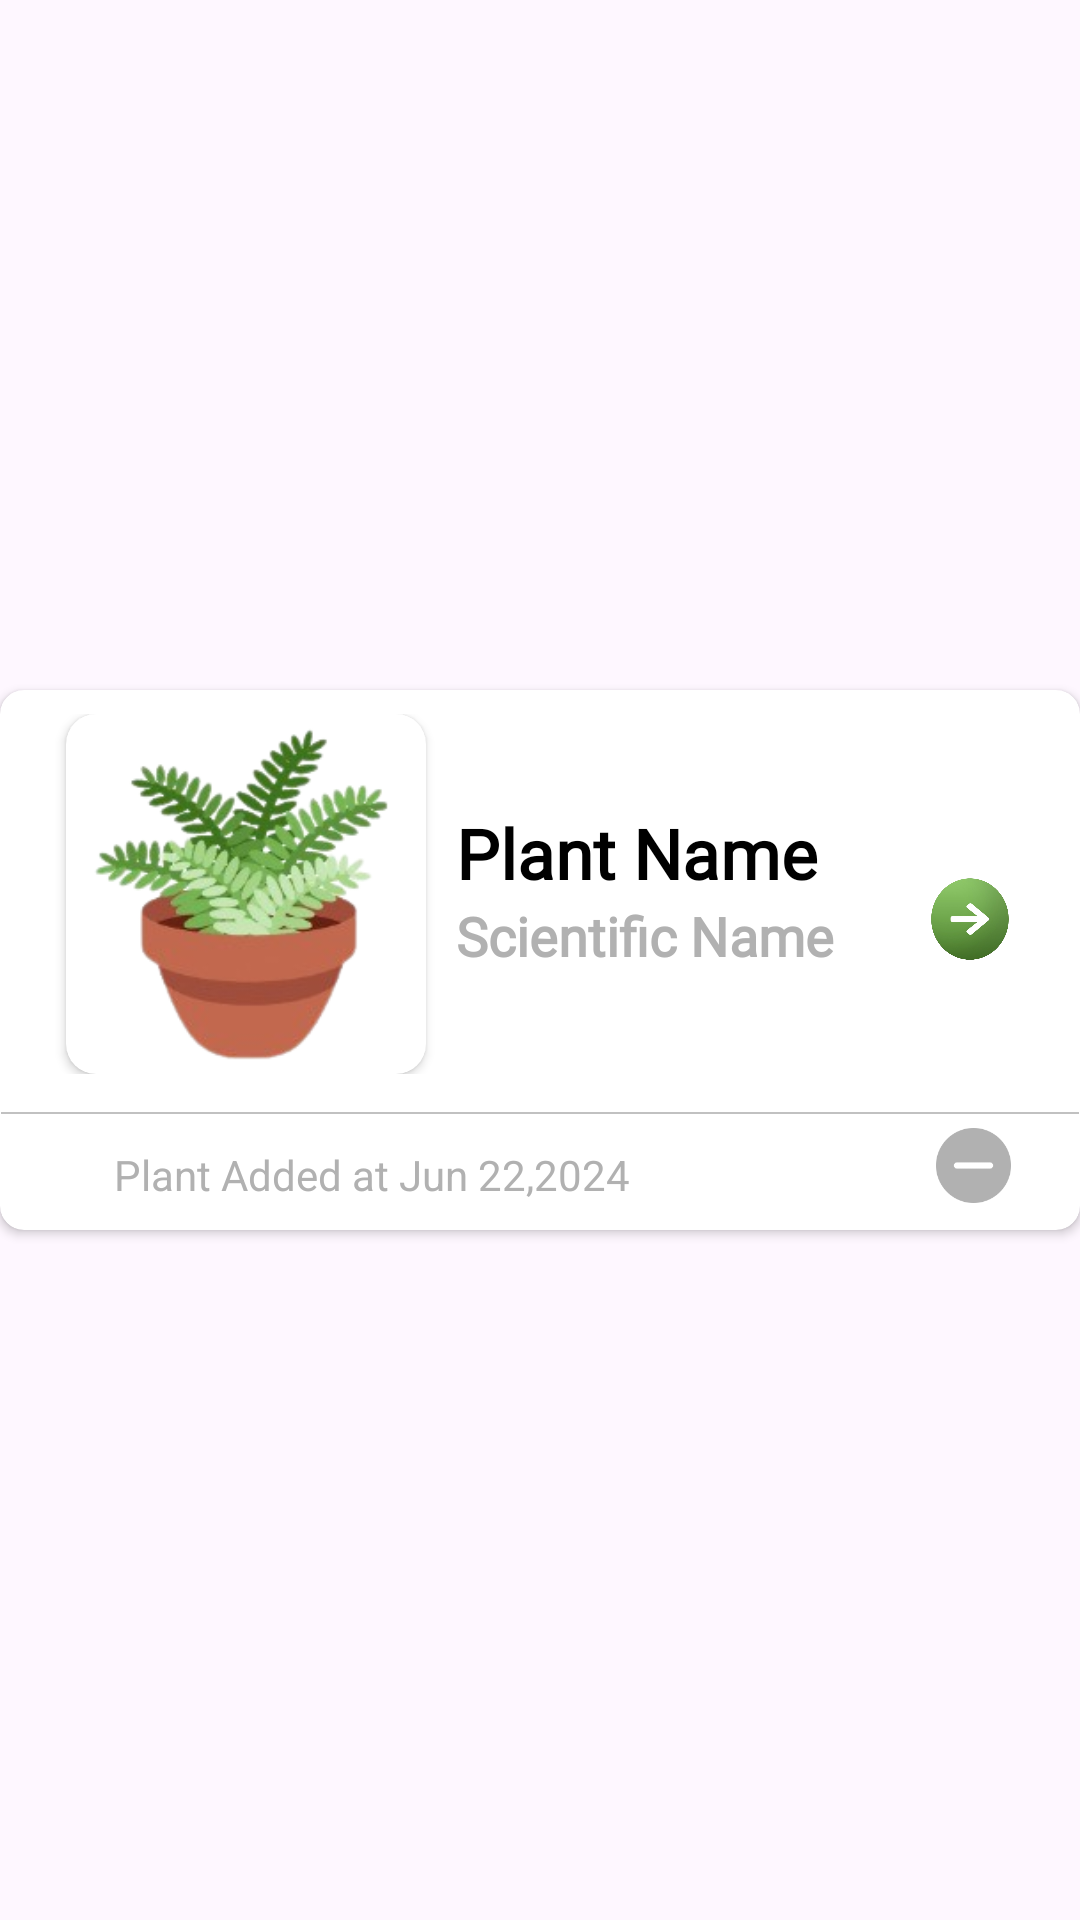

Named icons in this screenshot (1080 × 1920) and their centers, point (x, y):
plant arrow: point (970, 919)
